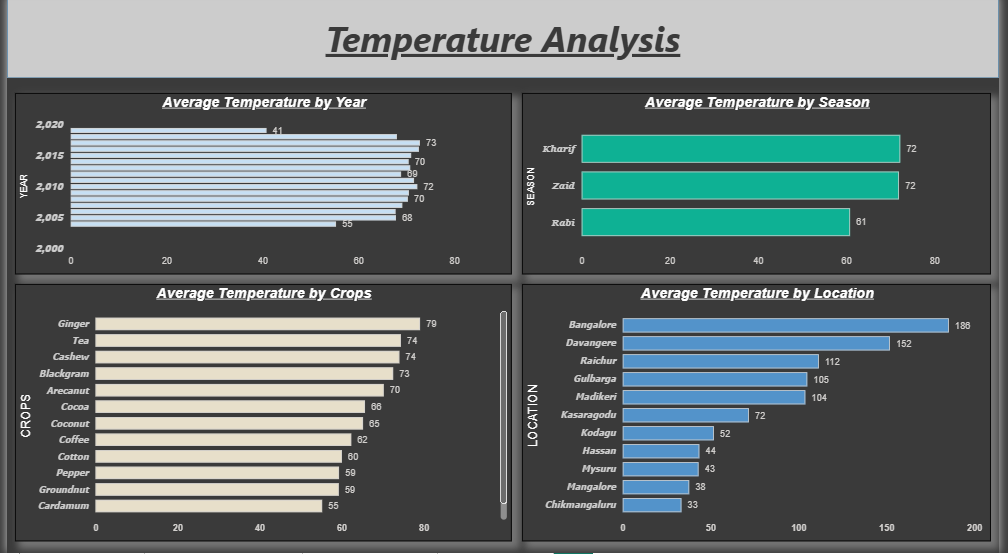

What the dashboard file says about the page in this screenshot:
{"tool":"powerbi","page":{"name":"Temperature Analysis","canvas":[1280,720],"ordinal":1},"visuals":[{"type":"shape","box":[0,0,1279.8,107.3],"z":0},{"type":"barChart","title":"Average Temperature by Year","fields":{"Category":["AGRICULTURE.YEAR"],"Y":["Avg(AGRICULTURE.TEMPERATURE)"]},"box":[10.3,126.4,640.7,233.6],"z":1000},{"type":"barChart","title":"Average Temperature by Season","fields":{"Category":["AGRICULTURE.SEASON"],"Y":["Avg(AGRICULTURE.TEMPERATURE)"]},"box":[664.2,126.4,605.4,233.6],"z":2000},{"type":"barChart","title":"Average Temperature by Crops","fields":{"Category":["AGRICULTURE.CROPS"],"Y":["Avg(AGRICULTURE.TEMPERATURE)"]},"box":[10.3,373.2,640.7,332.1],"z":3000},{"type":"barChart","title":"Average Temperature by Location","fields":{"Category":["AGRICULTURE.LOCATION"],"Y":["Avg(AGRICULTURE.TEMPERATURE)"]},"box":[664.2,373.2,605.4,332.1],"z":4000}]}

Visuals, with their boxes in screenshot pixels (x1, y1, x2, y2), scaled from the page's 1280x720 canvas onto the 1008x554 screenshot:
shape: Rect(0, 0, 1007, 83)
"Average Temperature by Year" barChart: Rect(8, 97, 513, 277)
"Average Temperature by Season" barChart: Rect(523, 97, 1000, 277)
"Average Temperature by Crops" barChart: Rect(8, 287, 513, 543)
"Average Temperature by Location" barChart: Rect(523, 287, 1000, 543)
